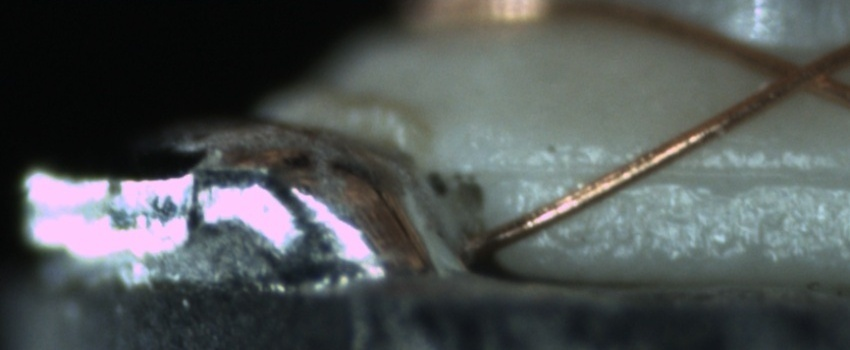CL: (756, 44, 841, 103)
DL: (515, 138, 843, 205)
